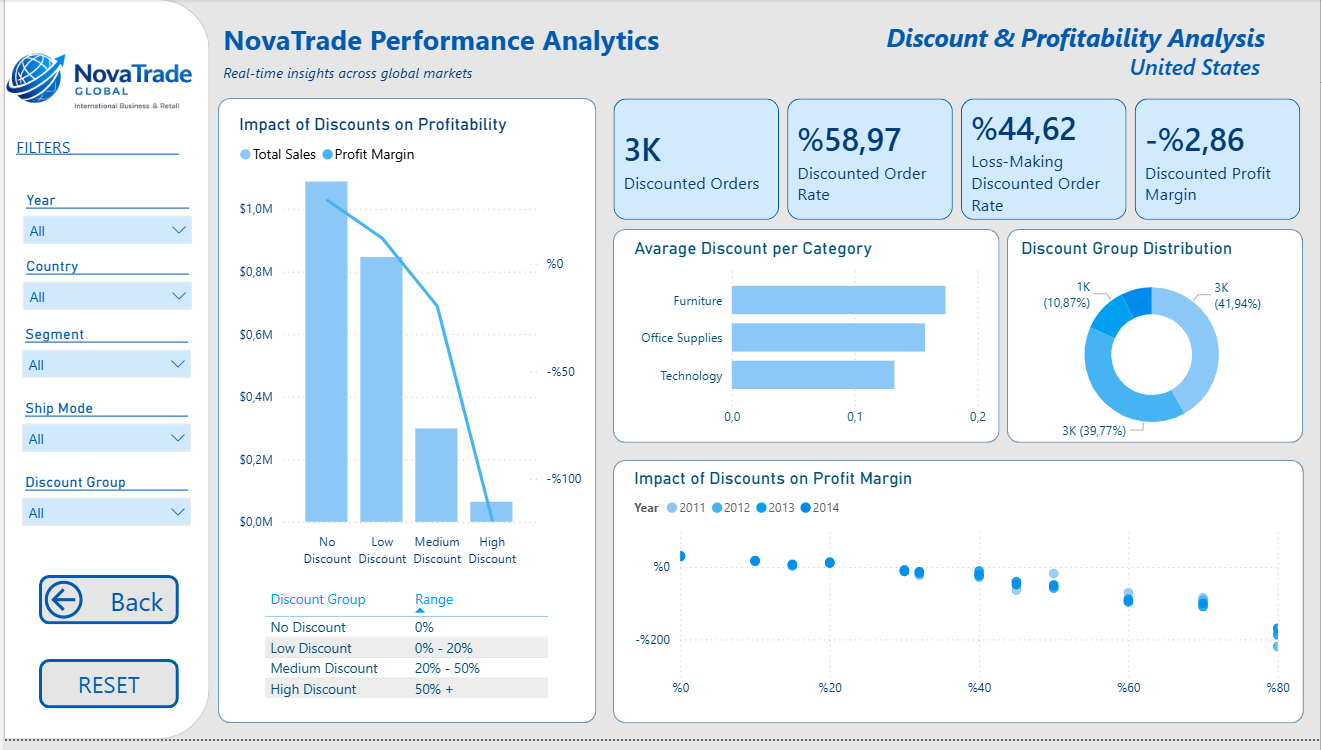

The dashboard page shown, as its layout file describes it:
{"tool":"powerbi","page":{"name":"Discount Analysis Overview-Country","canvas":[1280,720],"ordinal":3},"visuals":[{"type":"shape","box":[0,0,200,720],"z":0},{"type":"image","box":[0,0,192,160],"z":1000},{"type":"textbox","box":[6.9,127.7,168,56],"z":2000},{"type":"actionButton","box":[34,642,136,48],"z":3000},{"type":"textbox","box":[208,16,456,72],"z":4000},{"type":"textbox","box":[208,56,504,40],"z":5000},{"type":"shape","box":[208,96,368,608],"z":6000},{"type":"shape","box":[592,224,376,208],"z":7000},{"type":"cardVisual","fields":{"Data":["Sheet1.Discounted Orders","Sheet1.Discounted Order Rate","Sheet1.Loss Orders With Discount","Sheet1.Discounted Profit Margin"]},"box":[576,80,704,152],"z":8000},{"type":"shape","box":[592,448,672,256],"z":9000},{"type":"textbox","box":[832,16,400,48],"z":10000},{"type":"actionButton","box":[34,560,136,48],"z":11000},{"type":"lineClusteredColumnComboChart","title":"Impact of Discounts on Profitability","fields":{"Category":["Sheet1.Discount Group"],"Y":["Sheet1.Total Sales"],"Y2":["Sheet1.Profit Margin"]},"box":[224,112,344,448],"z":12000},{"type":"tableEx","fields":{"Values":["Discount Groups Ranges.Discount Group","Discount Groups Ranges.Range"]},"box":[248,568,288,120],"z":13000},{"type":"clusteredBarChart","title":"Avarage Discount per Category","fields":{"Y":["Sheet1.Avg Discount %"],"Category":["Sheet1.Category"]},"box":[608,232,352,192],"z":14000},{"type":"shape","box":[976,224,288,208],"z":15000},{"type":"scatterChart","title":"Impact of Discounts on Profit Margin","fields":{"X":["Sheet1.Discount"],"Y":["Sheet1.Profit Margin"],"Series":["Dates.Date.Variation.Date Hierarchy.Year"]},"box":[608,456,648,232],"z":16000},{"type":"slicer","fields":{"Values":["Dates.Date.Variation.Date Hierarchy.Year"]},"box":[8.8,182,184,64],"z":17000},{"type":"slicer","fields":{"Values":["Sheet1.Segment"]},"box":[8,312,184,64],"z":18000},{"type":"slicer","fields":{"Values":["Sheet1.Ship Mode"]},"box":[8,384,184,64],"z":19000},{"type":"slicer","fields":{"Values":["Sheet1.Country"]},"box":[8.8,246,184,64],"z":20000},{"type":"slicer","fields":{"Values":["Sheet1.Discount Group"]},"box":[8,456,184,64],"z":21000},{"type":"donutChart","title":"Discount Group Distribution","fields":{"Category":["Sheet1.Discount Group"],"Y":["Sheet1.Total Orders"]},"box":[984,232,264,208],"z":22000},{"type":"cardVisual","fields":{"Data":["Min(Sheet1.Country)"]},"box":[864,32,384,64],"z":23000}]}

Visuals, with their boxes in screenshot pixels (x1, y1, x2, y2), scaled from the page's 1280x720 canvas onto the 1322x750 screenshot:
shape: 0 0 207 749
image: 0 0 198 167
textbox: 7 133 181 191
actionButton: 35 669 176 719
textbox: 215 17 686 92
textbox: 215 58 735 100
shape: 215 100 595 733
shape: 611 233 1000 450
cardVisual - Sheet1.Discounted Orders x Sheet1.Discounted Order Rate: 595 83 1321 242
shape: 611 467 1305 733
textbox: 859 17 1272 67
actionButton: 35 583 176 633
"Impact of Discounts on Profitability" lineClusteredColumnComboChart: 231 117 587 583
tableEx - Discount Groups Ranges.Discount Group x Discount Groups Ranges.Range: 256 592 554 717
"Avarage Discount per Category" clusteredBarChart: 628 242 991 442
shape: 1008 233 1305 450
"Impact of Discounts on Profit Margin" scatterChart: 628 475 1297 717
slicer - Dates.Date.Variation.Date Hierarchy.Year: 9 190 199 256
slicer - Sheet1.Segment: 8 325 198 392
slicer - Sheet1.Ship Mode: 8 400 198 467
slicer - Sheet1.Country: 9 256 199 323
slicer - Sheet1.Discount Group: 8 475 198 542
"Discount Group Distribution" donutChart: 1016 242 1289 458
cardVisual - Min(Sheet1.Country): 892 33 1289 100
